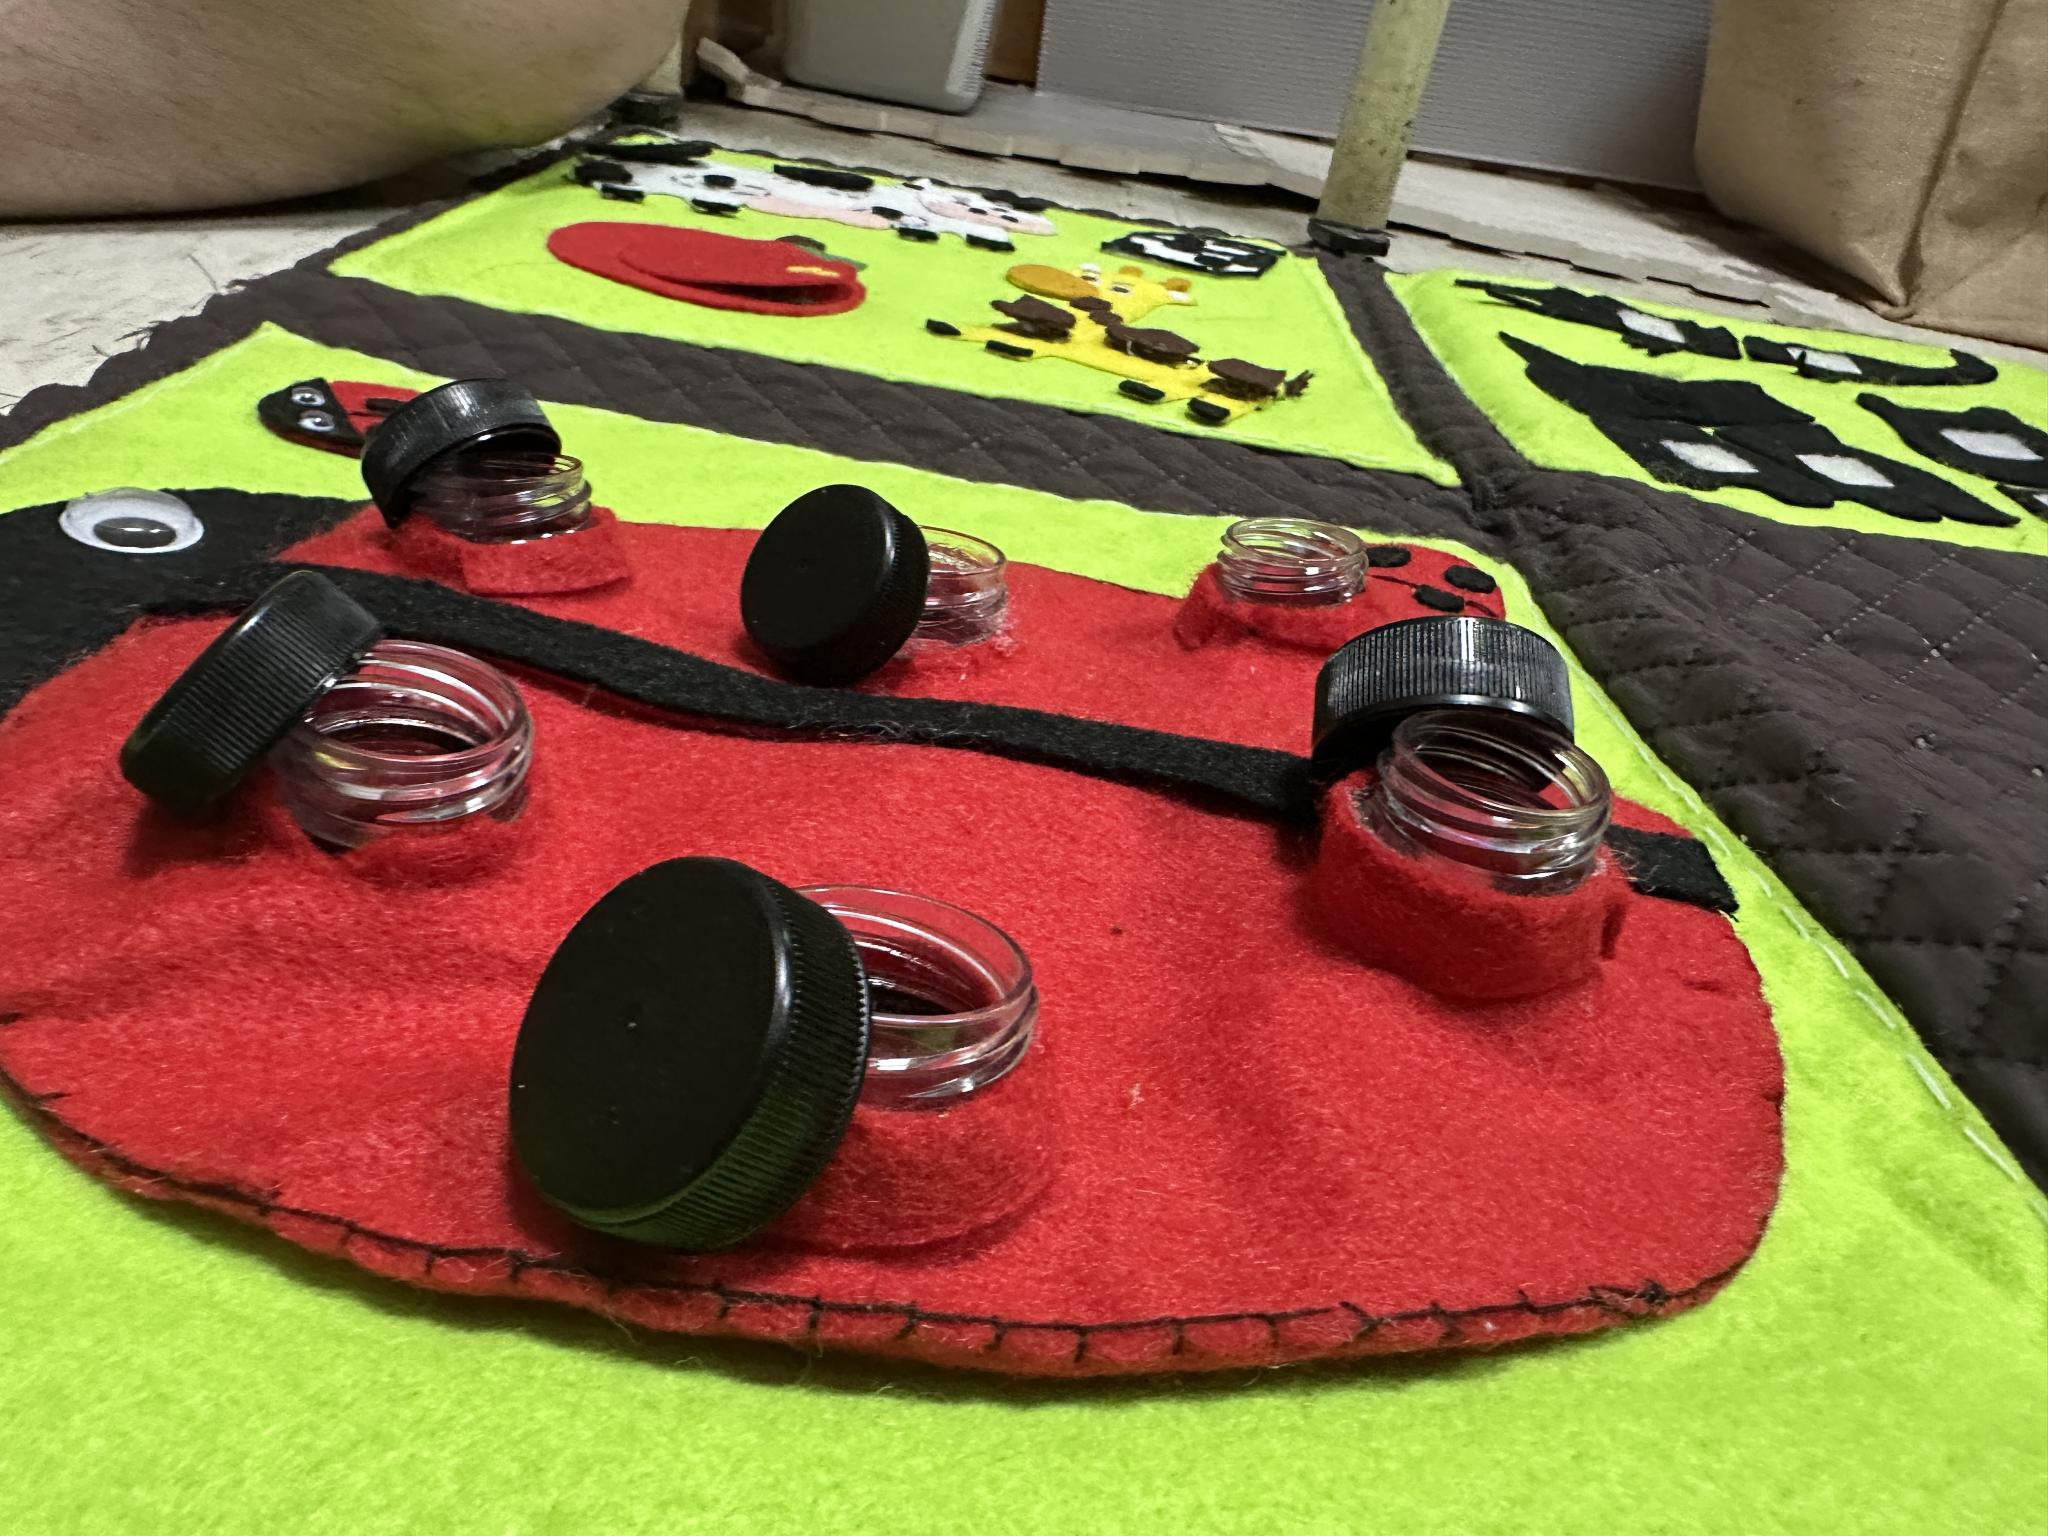cap_ng: (477, 834, 1124, 1289), (1308, 605, 1664, 1023), (94, 553, 552, 876), (356, 368, 666, 618), (722, 468, 1043, 708)
